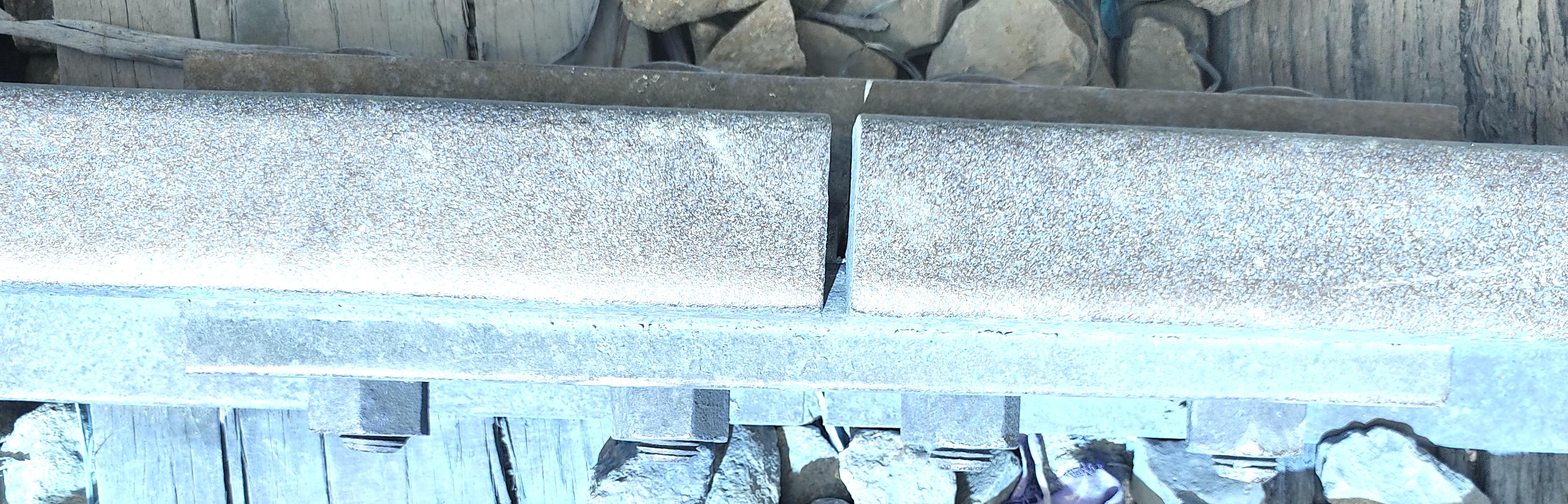duan lie: (792, 88, 897, 342)
